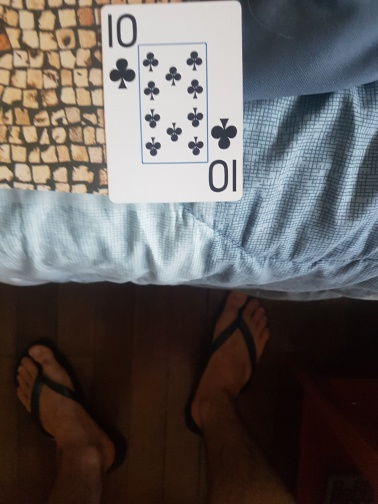ten: (101, 3, 244, 202)
